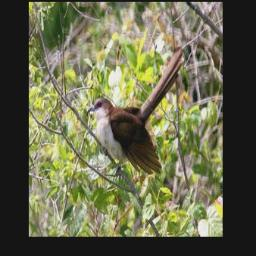Cuckoo: (86, 43, 163, 181)
